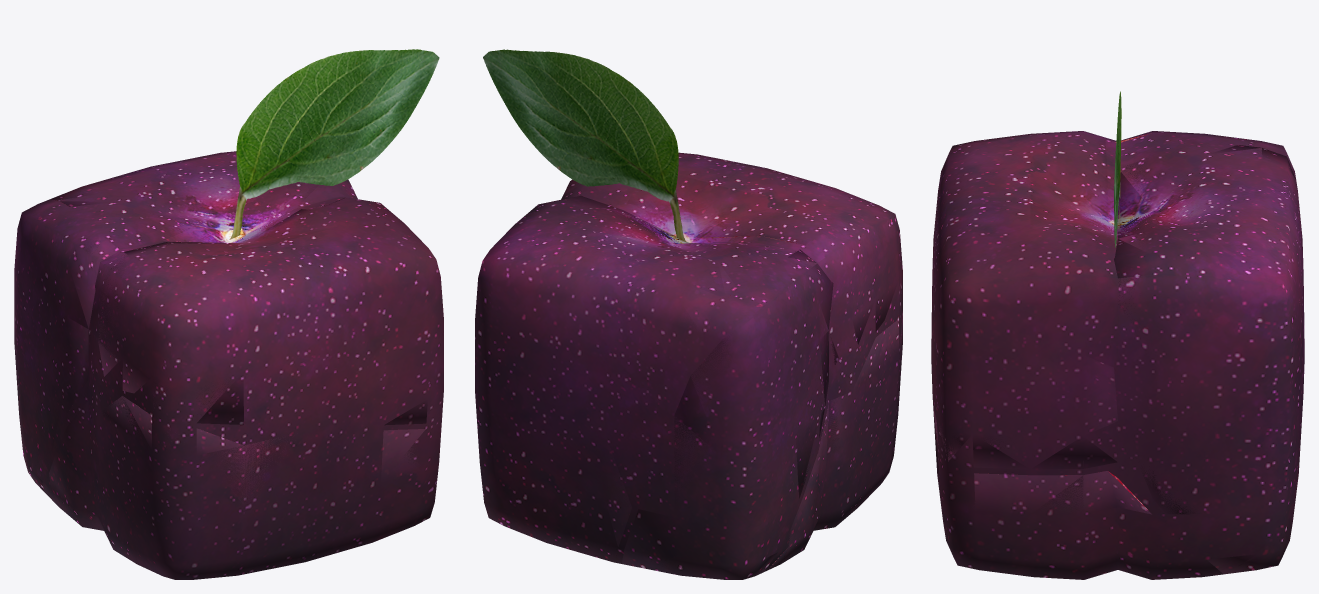
The model's file is SqPlum.fbx.
3 views of the same model, side by side, from view 1: azimuth 30°, elevation 25°; view 2: azimuth 150°, elevation 25°; view 3: azimuth 270°, elevation 25° (orthographic). The views are drawn at different scales.
Visible parts, largest first — view 1: SqPlum, SqPlum_cell.002, SqPlum_cell.001, SqPlum_leaf, SqPlum_cell, SqPlum_cell.003; view 2: SqPlum, SqPlum_cell, SqPlum_cell.003, SqPlum_leaf, SqPlum_cell.001, SqPlum_cell.002; view 3: SqPlum, SqPlum_cell.002, SqPlum_cell, SqPlum_cell.001, SqPlum_leaf.
Part boxes in pixels (bbox=[...]): SqPlum: bbox=[14, 151, 443, 579]; SqPlum_cell.002: bbox=[98, 198, 443, 425]; SqPlum_cell.001: bbox=[47, 396, 425, 579]; SqPlum_leaf: bbox=[229, 49, 439, 239]; SqPlum_cell: bbox=[50, 151, 357, 242]; SqPlum_cell.003: bbox=[14, 233, 120, 490]; SqPlum: bbox=[475, 153, 902, 579]; SqPlum_cell: bbox=[475, 195, 745, 555]; SqPlum_cell.003: bbox=[621, 249, 838, 579]; SqPlum_leaf: bbox=[483, 49, 686, 242]; SqPlum_cell.001: bbox=[768, 312, 902, 569]; SqPlum_cell.002: bbox=[563, 152, 899, 344]; SqPlum: bbox=[931, 131, 1303, 579]; SqPlum_cell.002: bbox=[932, 131, 1117, 469]; SqPlum_cell: bbox=[1114, 145, 1304, 574]; SqPlum_cell.001: bbox=[933, 416, 1151, 569]; SqPlum_leaf: bbox=[1114, 91, 1121, 247].
Bounding box in the file's own units: 12.21 × 16 × 9.96.
